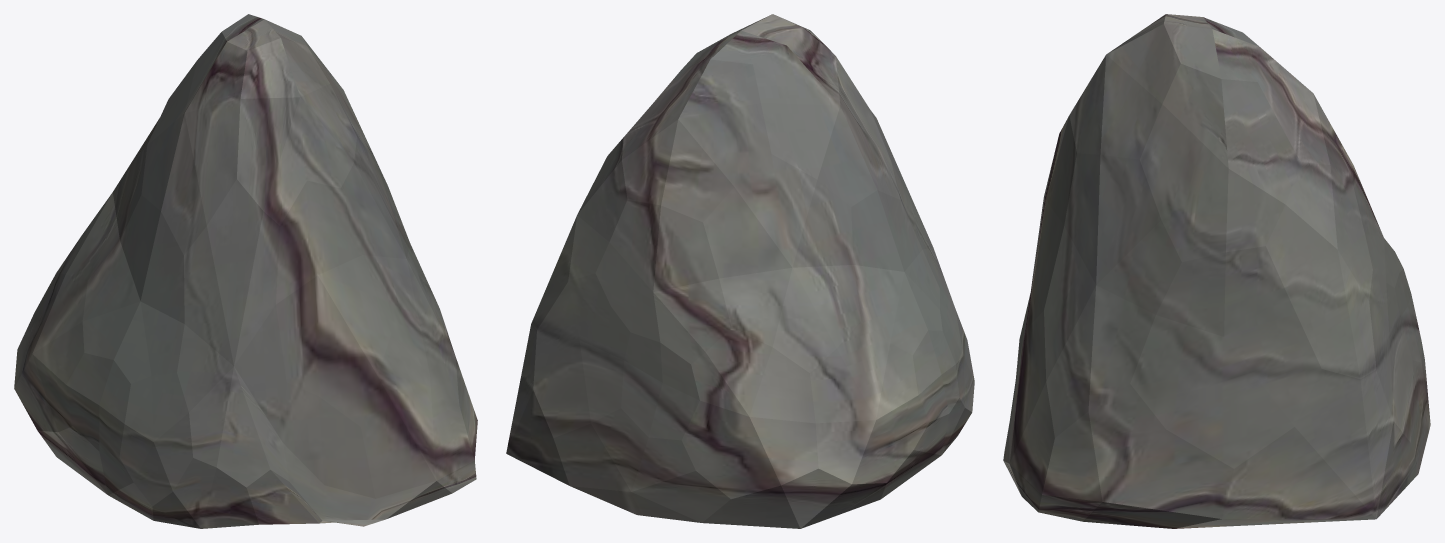
Rendered from pillar_rock_new.FBX.
The picture shows the model from 3 angles, left to right: view 1: azimuth 30°, elevation 25°; view 2: azimuth 150°, elevation 25°; view 3: azimuth 270°, elevation 25°; orthographic projection. The views are drawn at different scales.
Parts seen in each view (by area): view 1: pillar_rock_new; view 2: pillar_rock_new; view 3: pillar_rock_new.
Boxes of the visible parts, x1=… form: pillar_rock_new: x1=14, y1=14, x2=477, y2=528; pillar_rock_new: x1=506, y1=14, x2=974, y2=528; pillar_rock_new: x1=1003, y1=14, x2=1430, y2=528.
Bounding box in the file's own units: 94.31 × 106 × 96.52.
Materials: 1 (1 with a texture image).
